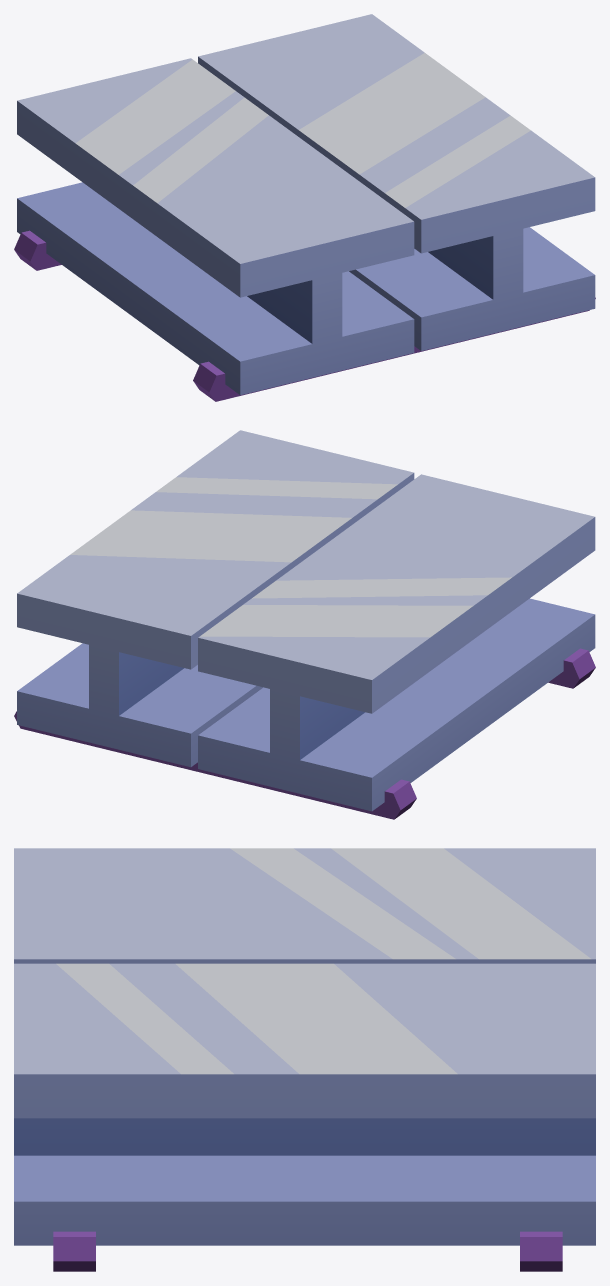
Rendered from obstacle-steel_beam_platform_rooftops_H1W2.glb.
3 renders of one model, top to bottom at view 1: azimuth 30°, elevation 25°; view 2: azimuth 150°, elevation 25°; view 3: azimuth 270°, elevation 25°, orthographic. The views are drawn at different scales.
Parts seen in each view (by area): view 1: obstacle-steel_beam_platform_rooftops_H1W2; view 2: obstacle-steel_beam_platform_rooftops_H1W2; view 3: obstacle-steel_beam_platform_rooftops_H1W2.
Boxes of the visible parts, x1,y1,x2,y2 form: obstacle-steel_beam_platform_rooftops_H1W2: (14,14,595,401); obstacle-steel_beam_platform_rooftops_H1W2: (14,430,595,819); obstacle-steel_beam_platform_rooftops_H1W2: (14,848,595,1271).
Size of the model in its own units: 6 by 2.18 by 6.
